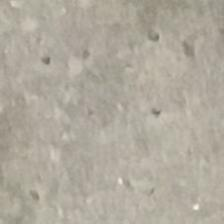Non_Crack: (10, 19, 224, 211)
